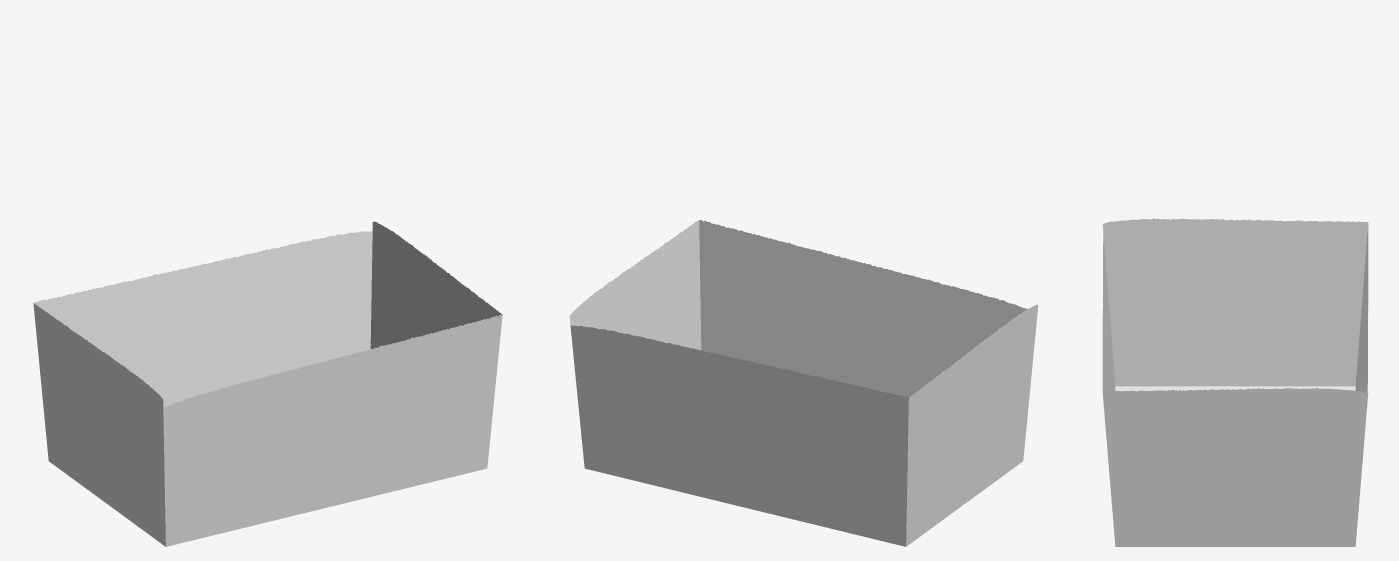
Rendered from doodad_light.fbx.
3 views of the same model, side by side, from view 1: azimuth 30°, elevation 25°; view 2: azimuth 150°, elevation 25°; view 3: azimuth 270°, elevation 25° (orthographic). The views are drawn at different scales.
Visible parts, largest first — view 1: light; view 2: light; view 3: light.
Boxes of the visible parts, x1=… form: light: x1=33, y1=221, x2=502, y2=546; light: x1=569, y1=220, x2=1038, y2=546; light: x1=1102, y1=218, x2=1368, y2=546.
Size of the model in its own units: 3.46 by 3.22 by 2.4.
1 material, 1 textured.
